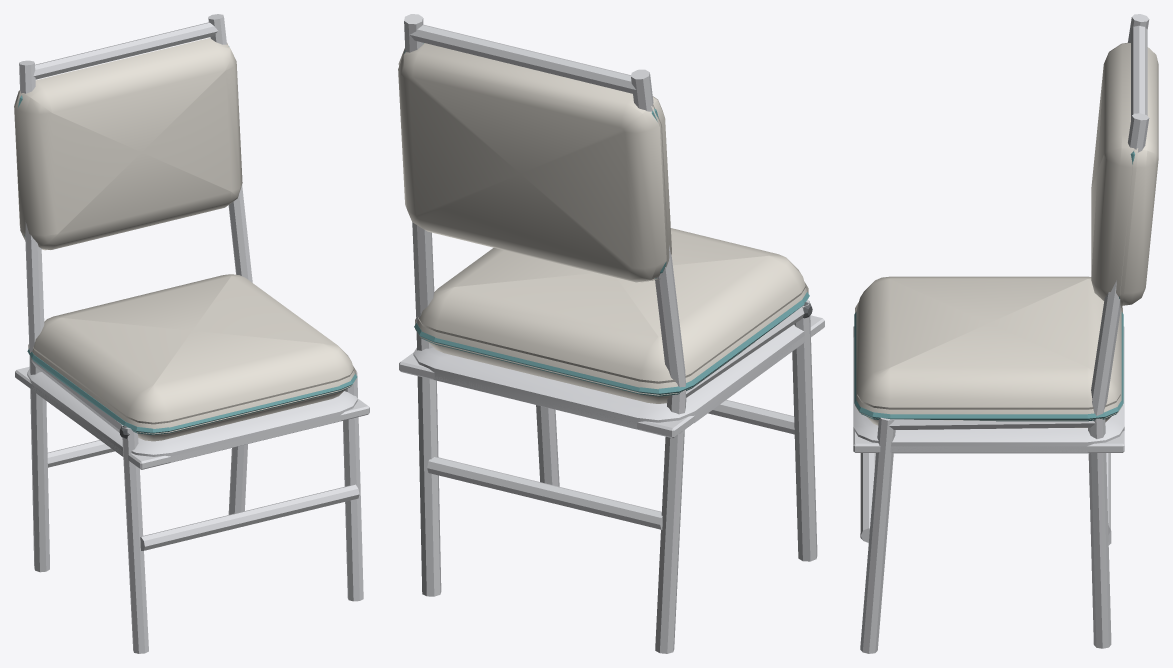
File: hotel-and-resort-operations-banquet-stacking-chair-2c37c907__25910.glb
3 renders of one model, left to right at view 1: azimuth 30°, elevation 25°; view 2: azimuth 150°, elevation 25°; view 3: azimuth 270°, elevation 25°, orthographic. The views are drawn at different scales.
Visible parts, largest first — view 1: banquet-stacking-chair; view 2: banquet-stacking-chair; view 3: banquet-stacking-chair.
Part boxes in pixels (left/top/right/bottom): banquet-stacking-chair: left=14, top=14, right=369, bottom=653; banquet-stacking-chair: left=398, top=14, right=824, bottom=653; banquet-stacking-chair: left=853, top=14, right=1158, bottom=653.
Bounding box in the file's own units: 0.46 × 0.9229 × 0.4839.
